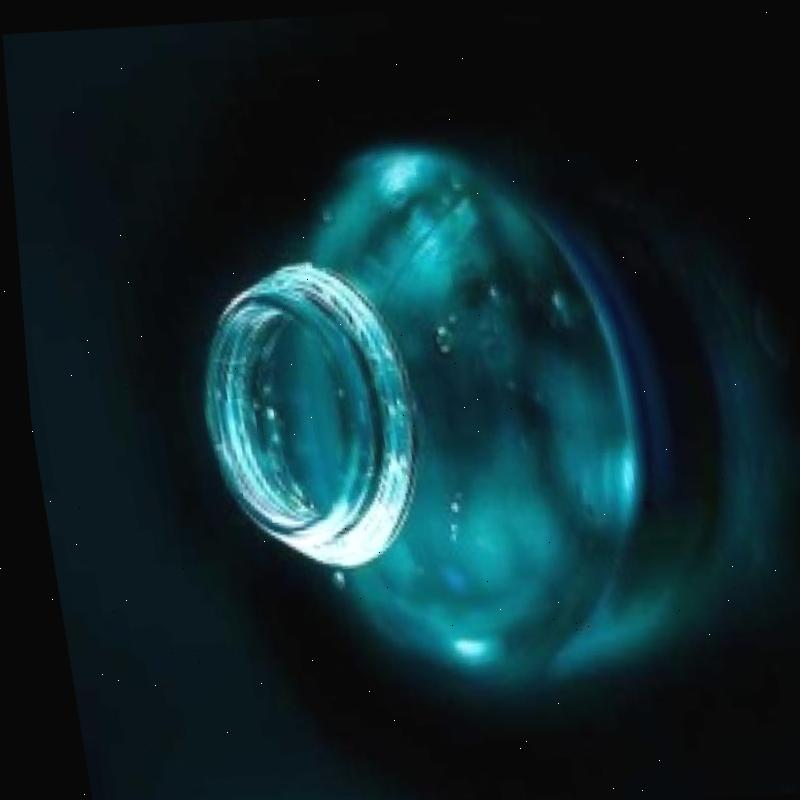botella: (162, 106, 800, 721)
